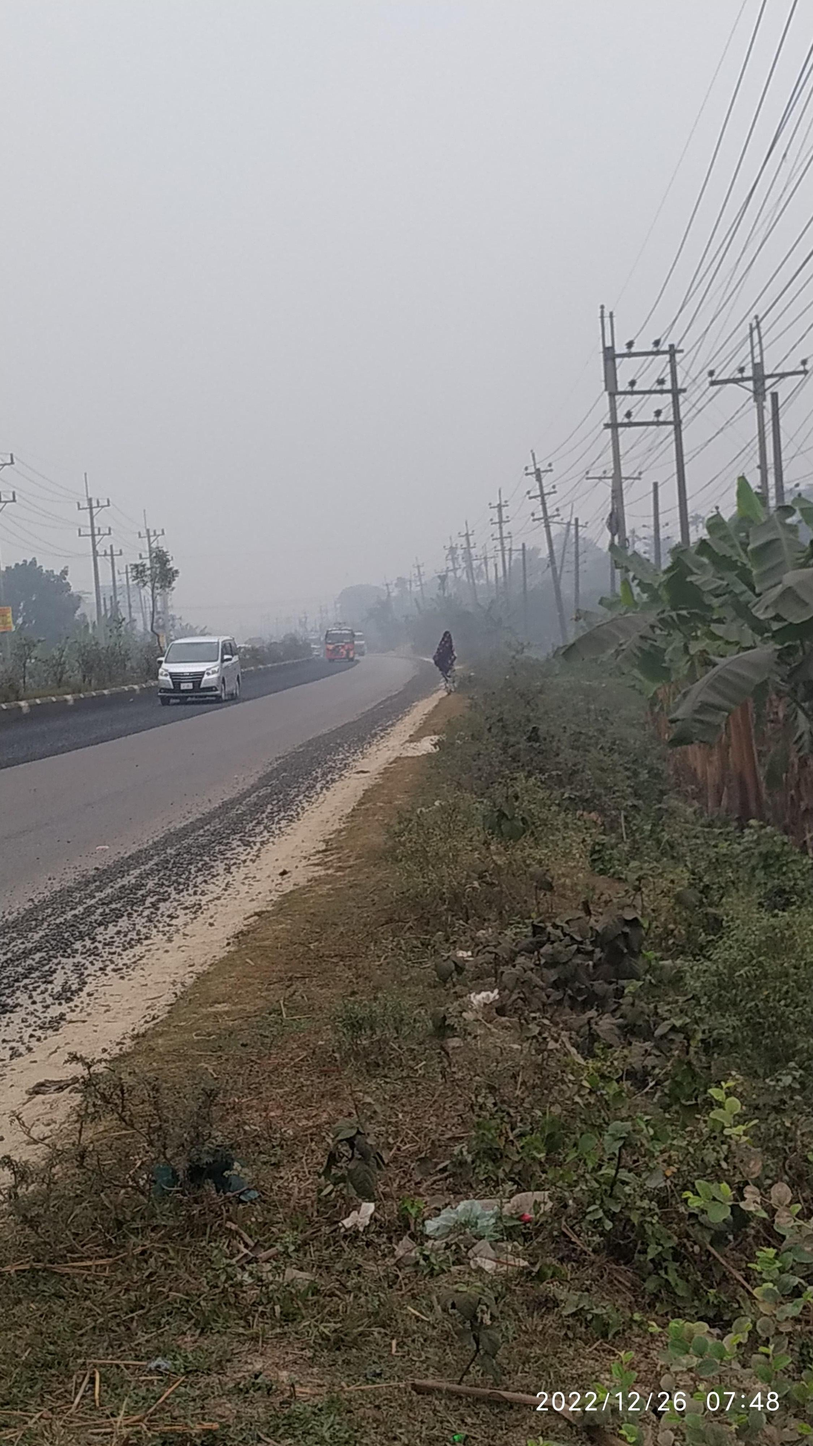Bus: (316, 611, 372, 684)
Car: (122, 606, 272, 741)
